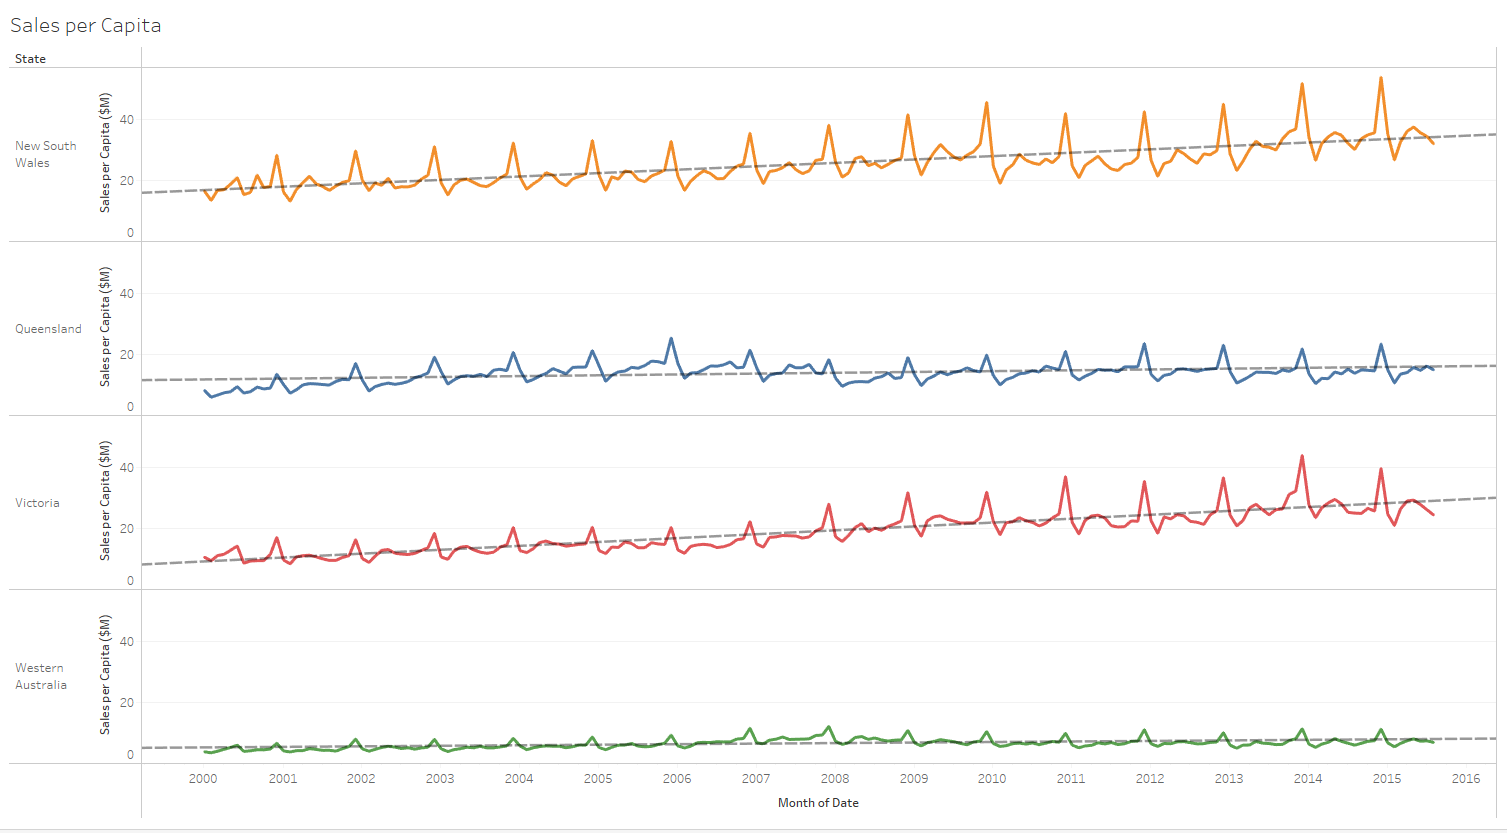

What the dashboard file says about the page in this screenshot:
{"tool":"tableau","page":{"name":"Sales D","canvas":[1000,1000],"units":"permille","ordinal":2},"visuals":[{"type":"text","box":[8,10,984,77.5]},{"type":"worksheet","title":"Sales per Capita w/ Forecasts","mark":"Line","rows":["Pivot Field Names - Split 1","Calculation_964051800778379265"],"cols":["F1"],"box":[8,87.5,984,902.5]}]}

Visuals, with their boxes on the dashboard's canvas, which has no fixed pixel size, in thousandths of its width and height (x1, y1, x2, y2). These are canvas units, not pixel positions in the 1507x833 screenshot, which may show the page scaled, cropped or inside an application window:
text: (8,10,992,88)
"Sales per Capita w/ Forecasts" worksheet (Line marks): (8,88,992,990)
